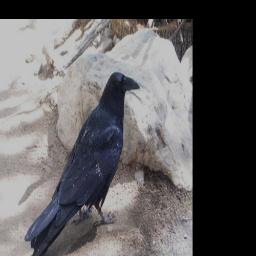Crow: (25, 69, 141, 256)
